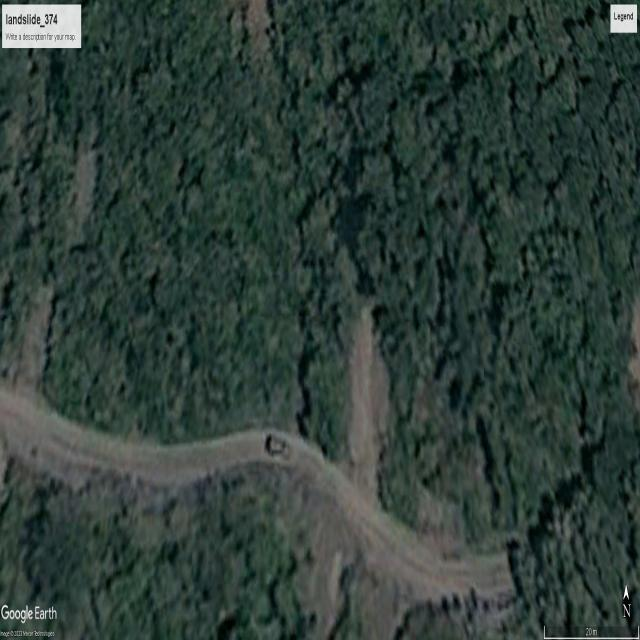Landslide: (342, 301, 393, 500)
